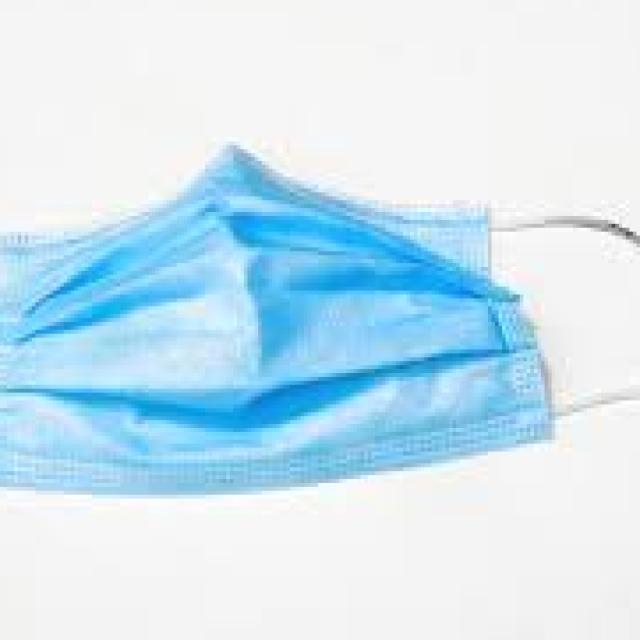organic: (12, 159, 603, 596)
